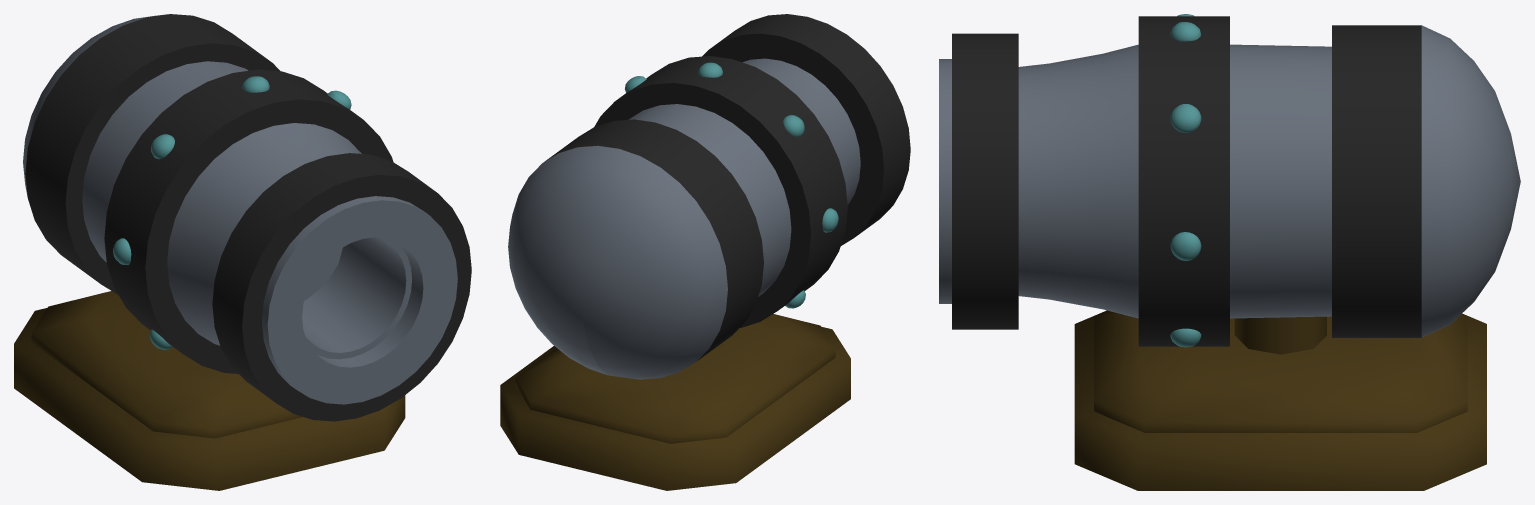
File: Canon.fbx
3 views of the same model, side by side, from view 1: azimuth 30°, elevation 25°; view 2: azimuth 150°, elevation 25°; view 3: azimuth 270°, elevation 25° (orthographic). The views are drawn at different scales.
Visible parts, largest first — view 1: canhao.004_low.009; view 2: canhao.004_low.009; view 3: canhao.004_low.009.
Part boxes in pixels (x1=…): canhao.004_low.009: x1=14, y1=14, x2=471, y2=490; canhao.004_low.009: x1=500, y1=14, x2=910, y2=490; canhao.004_low.009: x1=939, y1=14, x2=1520, y2=490.
Bounding box in the file's own units: 218 × 271 × 360.
